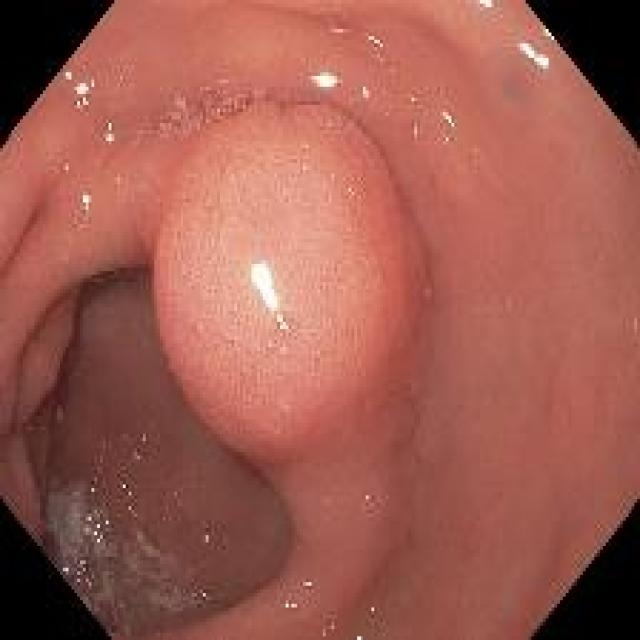Polyps: (154, 101, 416, 638)
